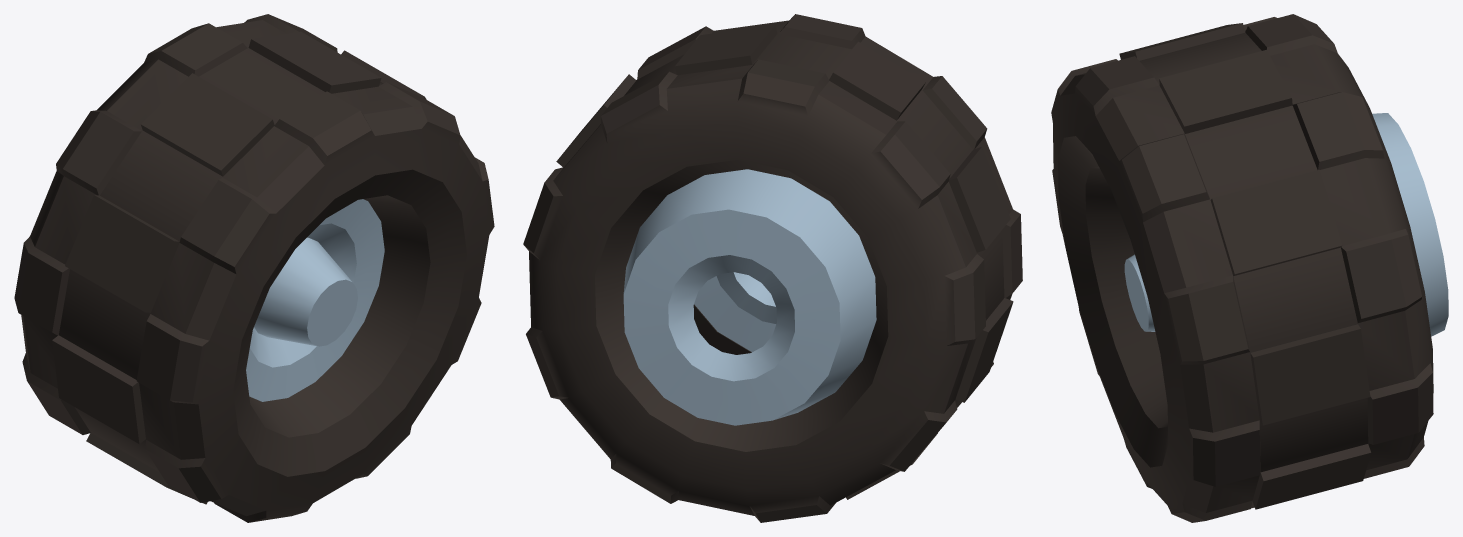
The model's file is TruckWheel.fbx.
3 views of the same model, side by side, from view 1: azimuth 30°, elevation 25°; view 2: azimuth 150°, elevation 25°; view 3: azimuth 270°, elevation 25° (orthographic). The views are drawn at different scales.
Visible parts, largest first — view 1: Tire_LeftFront.002; view 2: Tire_LeftFront.002; view 3: Tire_LeftFront.002.
Boxes of the visible parts, x1,y1,x2,y2 form: Tire_LeftFront.002: (14,14,494,522); Tire_LeftFront.002: (523,14,1022,522); Tire_LeftFront.002: (1051,14,1448,522).
Size of the model in its own units: 129 by 99.85 by 126.
